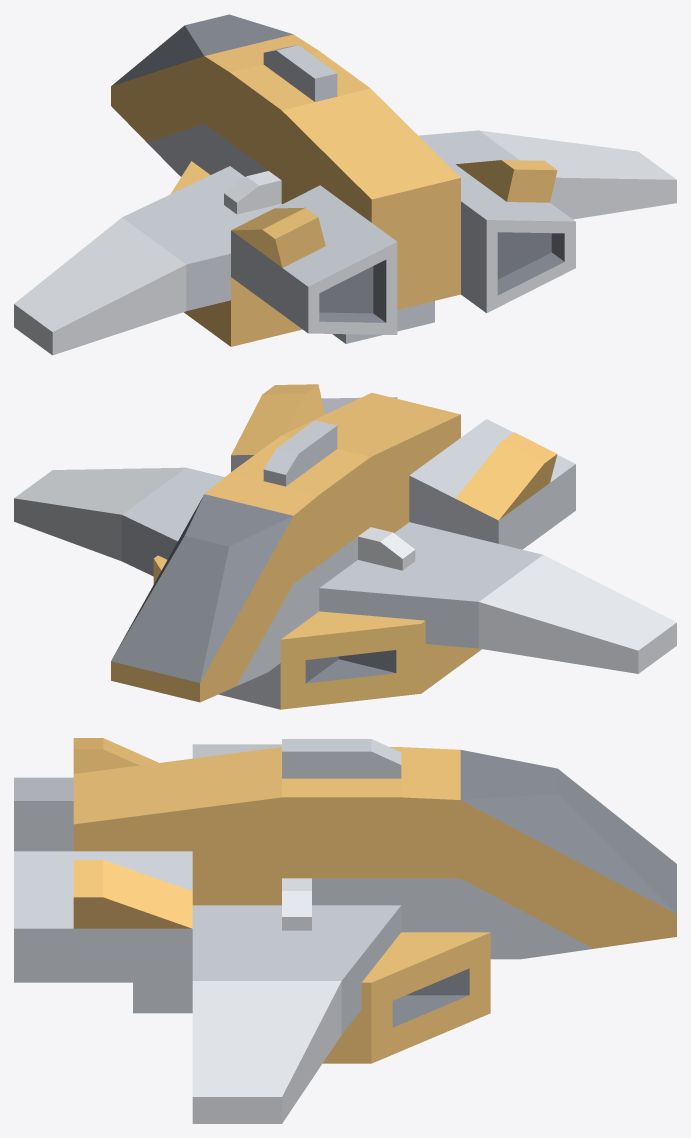
Rendered from spitfire.glb.
The picture shows the model from 3 angles, top to bottom: view 1: azimuth 30°, elevation 25°; view 2: azimuth 150°, elevation 25°; view 3: azimuth 270°, elevation 25°; orthographic projection. The views are drawn at different scales.
Visible parts, largest first — view 1: craft_speederD; view 2: craft_speederD; view 3: craft_speederD.
Boxes of the visible parts, x1,y1,x2,y2 form: craft_speederD: (14, 14, 676, 355); craft_speederD: (14, 384, 676, 709); craft_speederD: (14, 738, 676, 1123).
Bounding box in the file's own units: 2.8 × 0.9 × 2.23.
